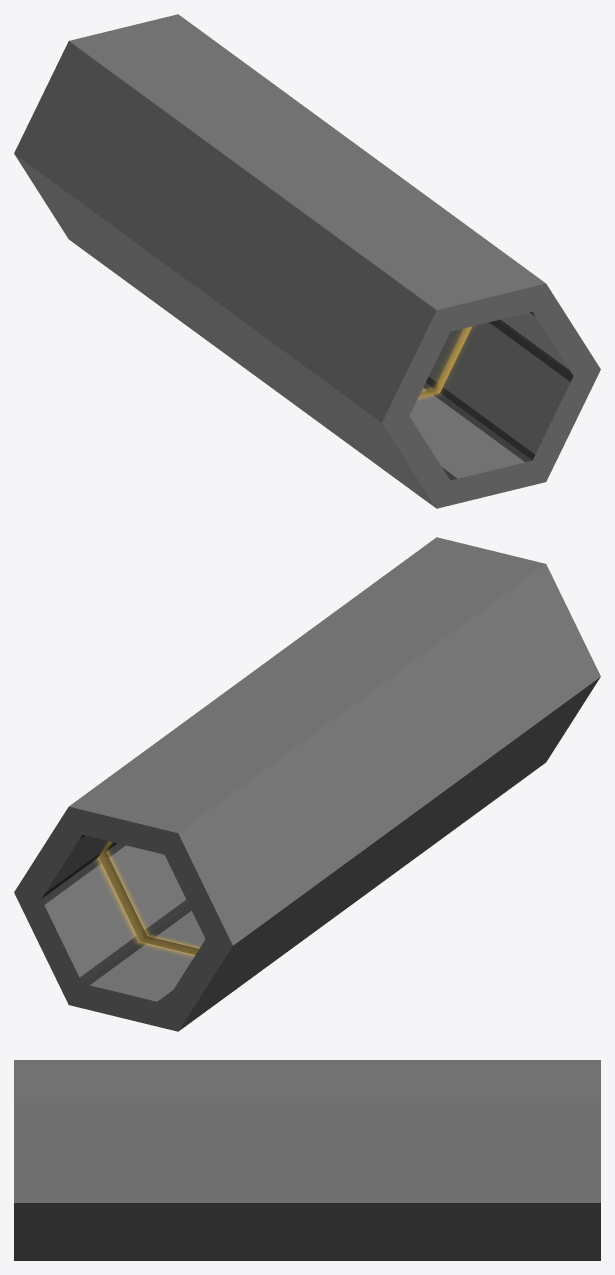
Rendered from pipe 2.fbx.
3 views of the same model, one above another, from view 1: azimuth 30°, elevation 25°; view 2: azimuth 150°, elevation 25°; view 3: azimuth 270°, elevation 25° (orthographic). The views are drawn at different scales.
Visible parts, largest first — view 1: Pipe; view 2: Pipe; view 3: Pipe.
Boxes of the visible parts, x1,y1,x2,y2 form: Pipe: [14, 14, 600, 508]; Pipe: [14, 537, 600, 1031]; Pipe: [14, 1060, 600, 1260].
Bounding box in the file's own units: 1037 × 898 × 3017.
